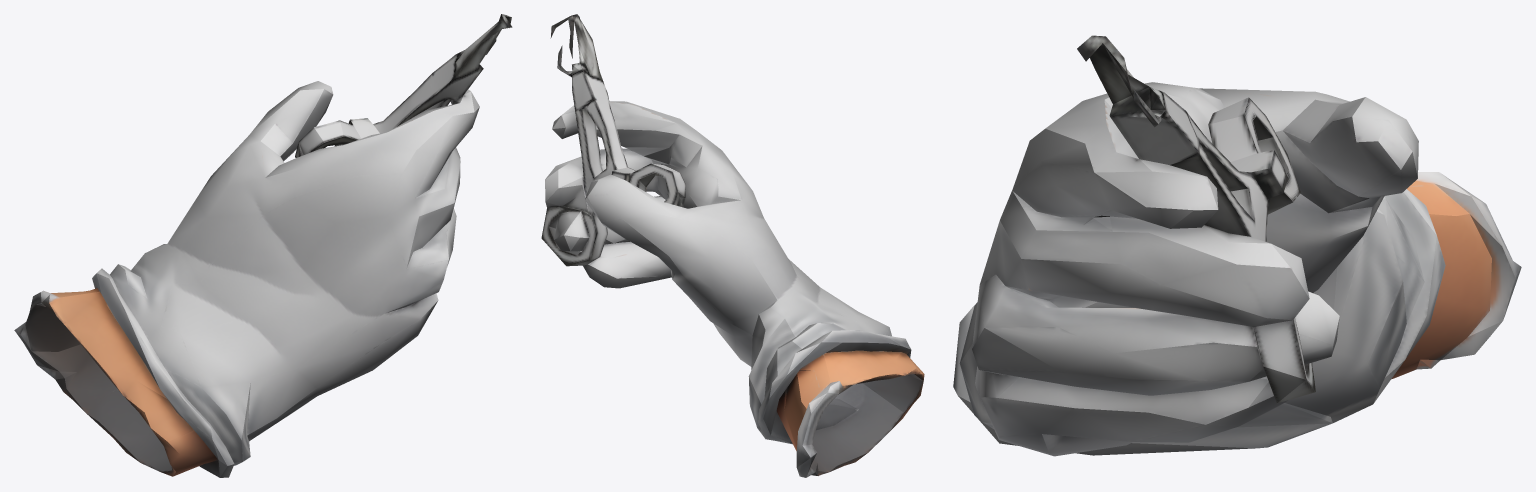
File: GhostHandDriver.glb
3 views of the same model, side by side, from view 1: azimuth 30°, elevation 25°; view 2: azimuth 150°, elevation 25°; view 3: azimuth 270°, elevation 25° (orthographic). The views are drawn at different scales.
Visible parts, largest first — view 1: geometry_0; view 2: geometry_0; view 3: geometry_0.
Part boxes in pixels (x1,y1,x2,y2): geometry_0: (14, 14, 512, 477); geometry_0: (541, 14, 924, 477); geometry_0: (953, 35, 1521, 456).
Bounding box in the file's own units: 0.24 × 0.2231 × 0.1637.
1 material, 1 textured.
